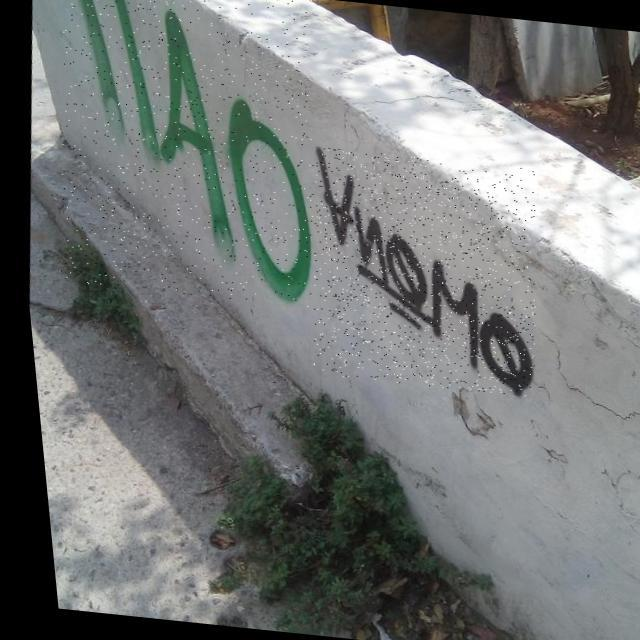-: (33, 0, 337, 307), (288, 146, 550, 397)
